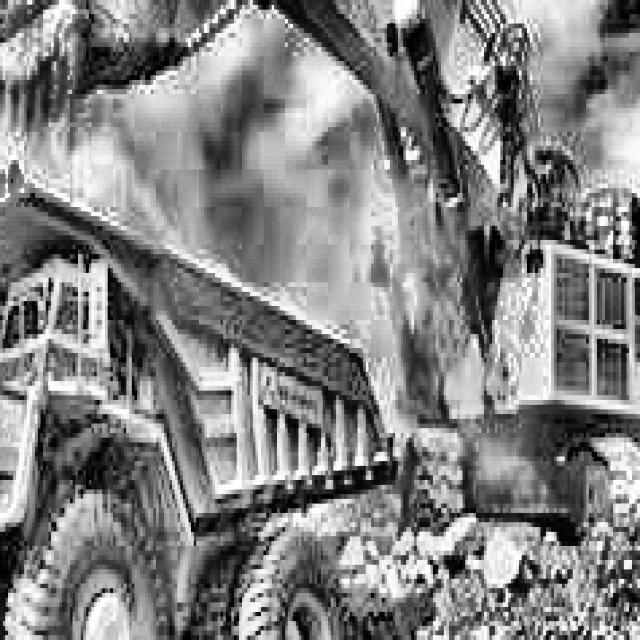dump_truck: (0, 150, 417, 640)
excavator: (13, 0, 640, 631)
